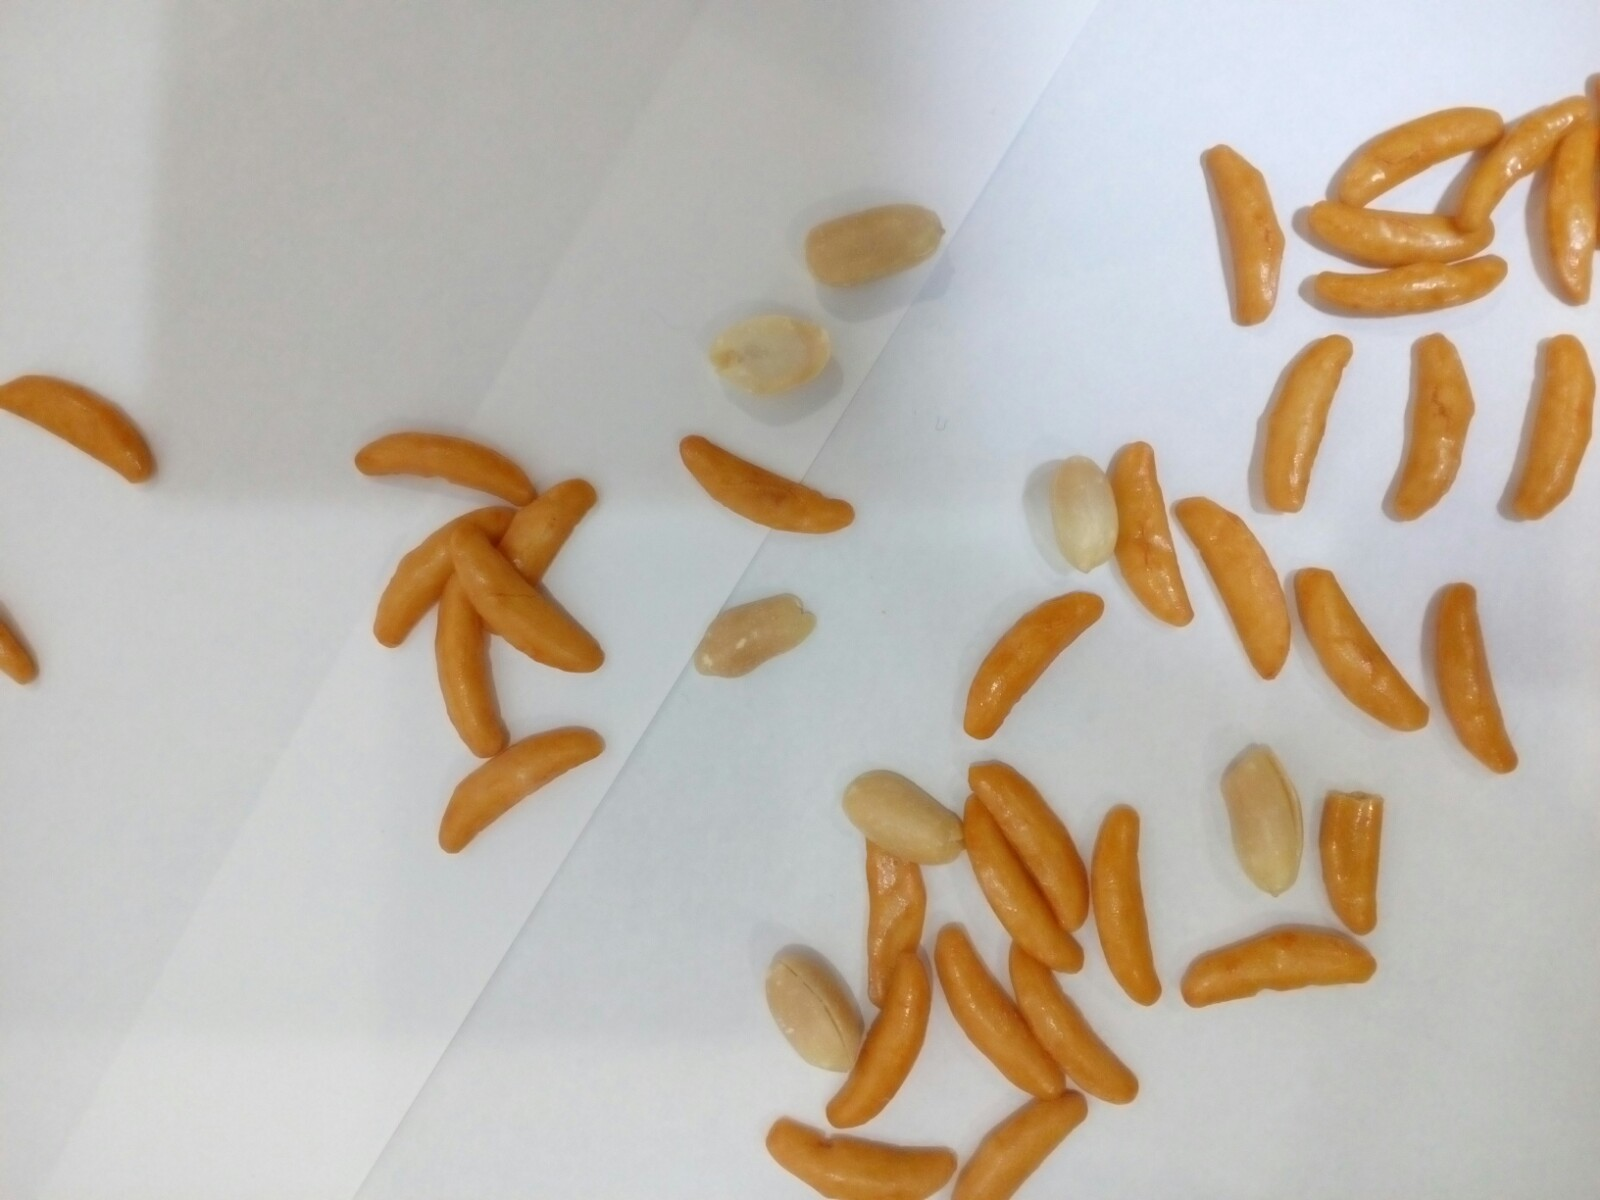peanut: (1214, 737, 1318, 901), (765, 939, 876, 1088), (838, 763, 978, 868), (702, 297, 838, 398), (803, 195, 954, 285), (1041, 442, 1128, 587), (697, 592, 821, 682)
